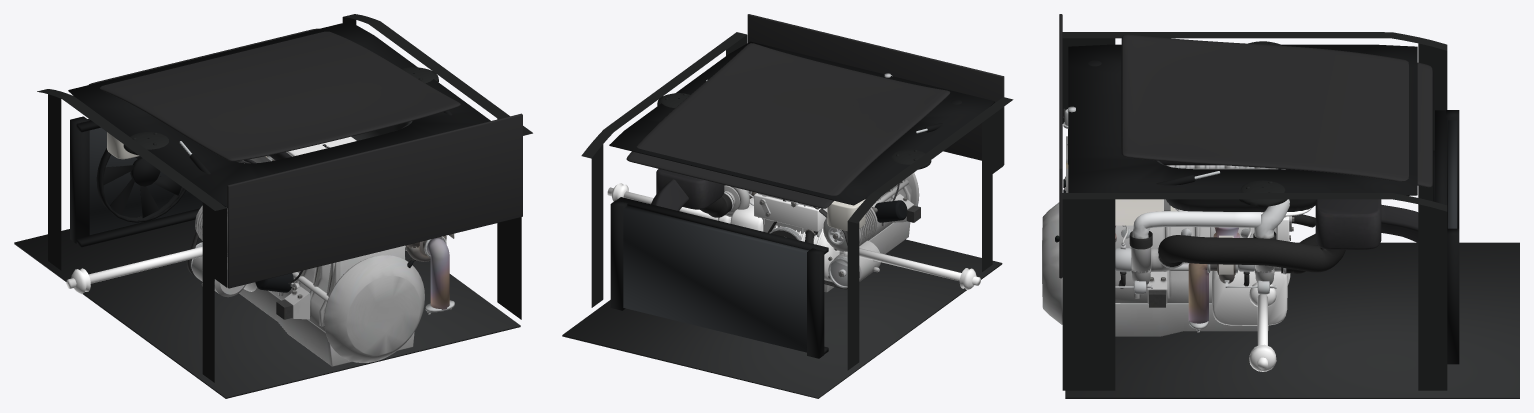
File: cordeau7-engine.glb
3 renders of one model, left to right at view 1: azimuth 30°, elevation 25°; view 2: azimuth 150°, elevation 25°; view 3: azimuth 270°, elevation 25°, orthographic. The views are drawn at different scales.
Parts seen in each view (by area): view 1: MDL_bay_firewall, MDL_bonnet_pad, MDL_bay_undertray, MDL_bay_aprons, MDL_boot_cover, MDL_engine_bellhousing, MDL_bay_fans, MDL_bay_radiator, MDL_engine_oil_pan, MDL_engine_block, MDL_motor_shafts, MDL_engine_downpipes (+4 smaller); view 2: MDL_bonnet_pad, MDL_bay_undertray, MDL_bay_radiator, MDL_bay_aprons, MDL_bay_firewall, MDL_boot_cover, MDL_bay_fans, MDL_engine_airbox, MDL_motor_shafts, MDL_motor_inverter, MDL_motor_front, MDL_engine_oil_pan (+9 smaller); view 3: MDL_bay_undertray, MDL_bonnet_pad, MDL_bay_aprons, MDL_boot_cover, MDL_engine_air_hoses, MDL_engine_airbox, MDL_bay_fans, MDL_engine_charge_pipes, MDL_engine_oil_pan, MDL_motor_front, MDL_engine_block, MDL_engine_bellhousing (+9 smaller).
Boxes of the visible parts, x1,y1,x2,y2 form: MDL_bay_firewall: [227, 113, 522, 288]; MDL_bonnet_pad: [89, 28, 460, 161]; MDL_bay_undertray: [14, 220, 520, 398]; MDL_bay_aprons: [37, 14, 532, 382]; MDL_boot_cover: [68, 21, 490, 207]; MDL_engine_bellhousing: [324, 255, 424, 362]; MDL_bay_fans: [70, 116, 199, 247]; MDL_bay_radiator: [87, 119, 202, 234]; MDL_engine_oil_pan: [239, 287, 414, 366]; MDL_engine_block: [269, 245, 405, 331]; MDL_motor_shafts: [66, 246, 202, 293]; MDL_engine_downpipes: [424, 236, 454, 314]; MDL_bonnet_pad: [626, 43, 950, 208]; MDL_bay_undertray: [562, 239, 1002, 398]; MDL_bay_radiator: [623, 206, 808, 352]; MDL_bay_aprons: [581, 32, 1013, 370]; MDL_bay_firewall: [747, 14, 1004, 165]; MDL_boot_cover: [609, 41, 994, 205]; MDL_bay_fans: [610, 197, 828, 358]; MDL_engine_airbox: [651, 169, 724, 210]; MDL_motor_shafts: [607, 183, 980, 290]; MDL_motor_inverter: [754, 193, 827, 231]; MDL_motor_front: [730, 197, 839, 280]; MDL_engine_oil_pan: [824, 221, 910, 292]; MDL_bay_undertray: [1065, 242, 1519, 398]; MDL_bonnet_pad: [1121, 34, 1433, 187]; MDL_bay_aprons: [1062, 32, 1447, 390]; MDL_boot_cover: [1068, 44, 1417, 195]; MDL_engine_air_hoses: [1158, 233, 1345, 274]; MDL_engine_airbox: [1315, 199, 1418, 249]; MDL_bay_fans: [1433, 110, 1459, 364]; MDL_engine_charge_pipes: [1129, 169, 1289, 249]; MDL_engine_oil_pan: [1115, 303, 1268, 336]; MDL_motor_front: [1211, 239, 1290, 325]; MDL_engine_block: [1115, 225, 1211, 303]; MDL_engine_bellhousing: [1042, 202, 1062, 324].
Bounding box in the file's own units: 1.6 × 0.773 × 1.45.
Materials: 29 (17 with a texture image).
